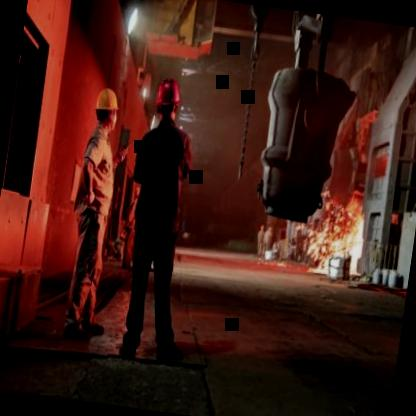helmet: (89, 86, 122, 140), (152, 79, 182, 128)
